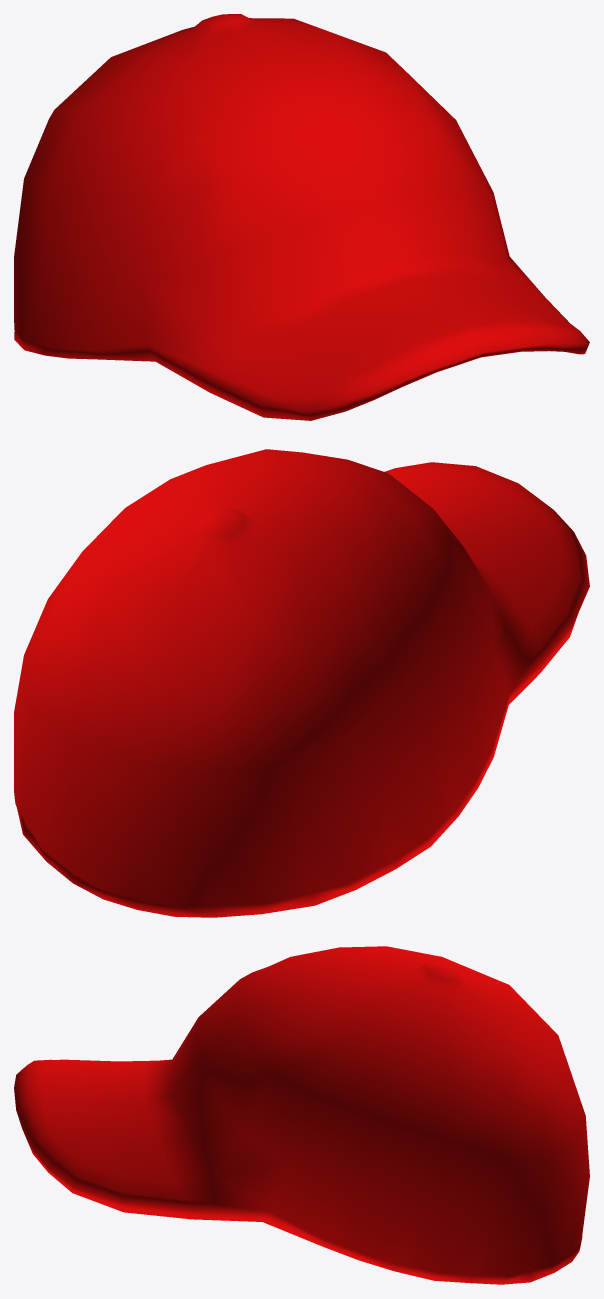
Rendered from Hat_BallCap.glb.
3 views of the same model, one above another, from view 1: azimuth 30°, elevation 25°; view 2: azimuth 150°, elevation 25°; view 3: azimuth 270°, elevation 25° (orthographic). The views are drawn at different scales.
Visible parts, largest first — view 1: Hat_BallCap; view 2: Hat_BallCap; view 3: Hat_BallCap.
Boxes of the visible parts, box(x1,y1,x2,y2) form: Hat_BallCap: box(14, 14, 589, 420); Hat_BallCap: box(14, 449, 589, 917); Hat_BallCap: box(14, 946, 589, 1284).
Bounding box in the file's own units: 0.2611 × 0.2005 × 0.384.
